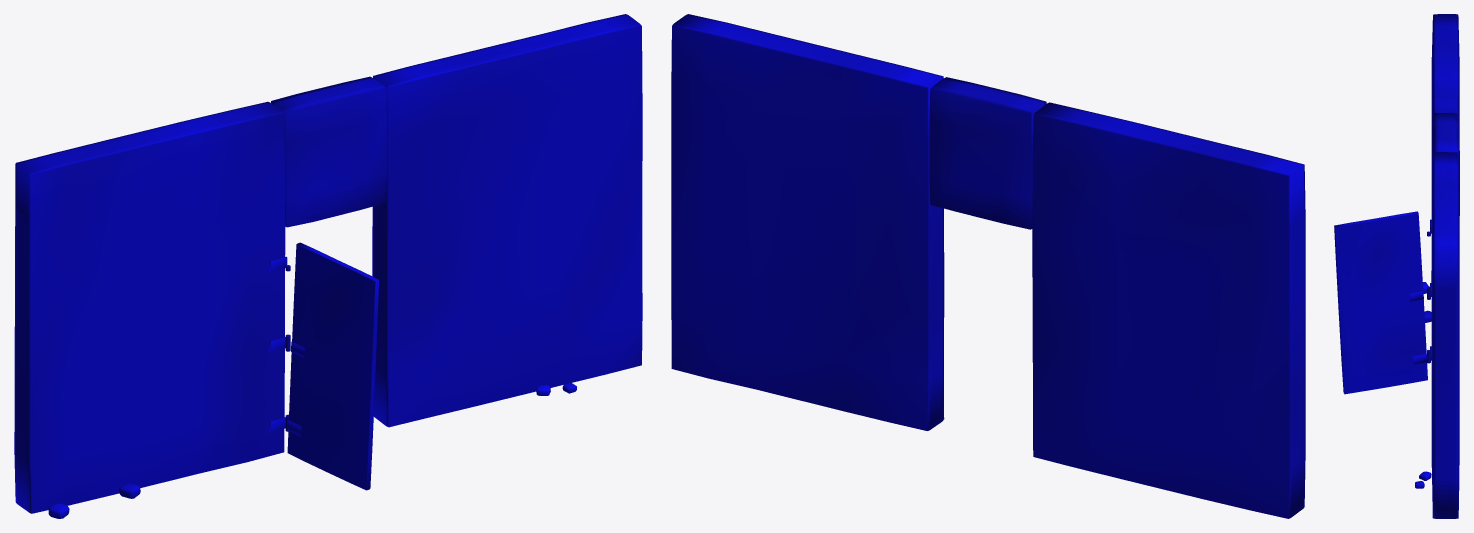
Rendered from hinge_door.glb.
3 views of the same model, side by side, from view 1: azimuth 30°, elevation 25°; view 2: azimuth 150°, elevation 25°; view 3: azimuth 270°, elevation 25° (orthographic). The views are drawn at different scales.
Visible parts, largest first — view 1: hinge_door; view 2: hinge_door; view 3: hinge_door.
Boxes of the visible parts, x1=… form: hinge_door: x1=14, y1=14, x2=642, y2=518; hinge_door: x1=671, y1=14, x2=1305, y2=518; hinge_door: x1=1334, y1=14, x2=1459, y2=518.
Size of what is drawn, in the model's own units: 6 by 3.22 by 1.35.
